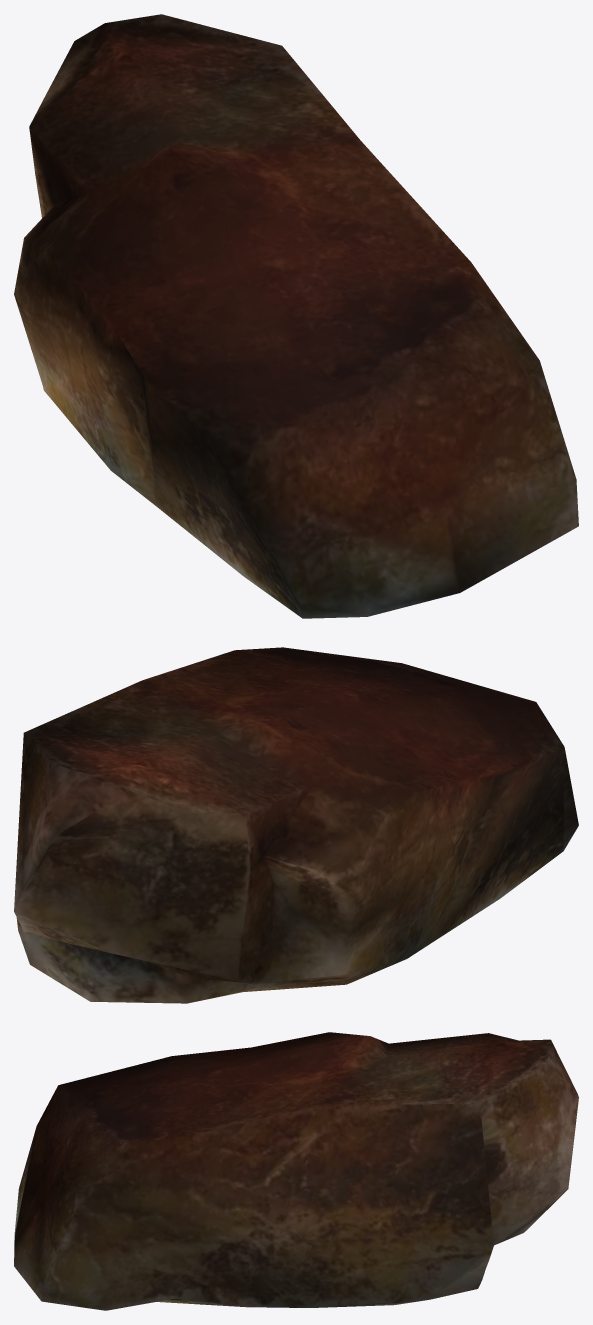
The model's file is rock_07.glb.
3 renders of one model, top to bottom at view 1: azimuth 30°, elevation 25°; view 2: azimuth 150°, elevation 25°; view 3: azimuth 270°, elevation 25°, orthographic. The views are drawn at different scales.
Parts seen in each view (by area): view 1: rock_07; view 2: rock_07; view 3: rock_07.
Boxes of the visible parts, x1,y1,x2,y2 form: rock_07: [14, 14, 578, 618]; rock_07: [14, 647, 578, 1003]; rock_07: [14, 1032, 578, 1310].
Size of the model in its own units: 0.1667 by 0.1392 by 0.3139.
Materials: 1 (1 with a texture image).
